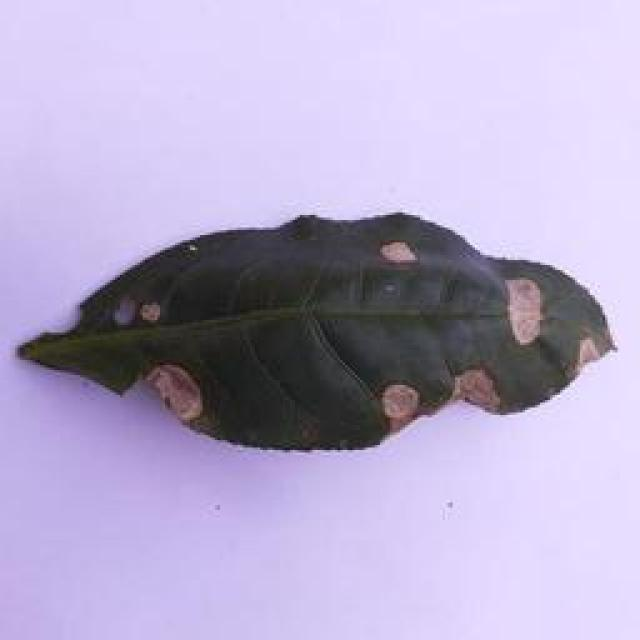Gray Blight: (14, 203, 613, 453)
